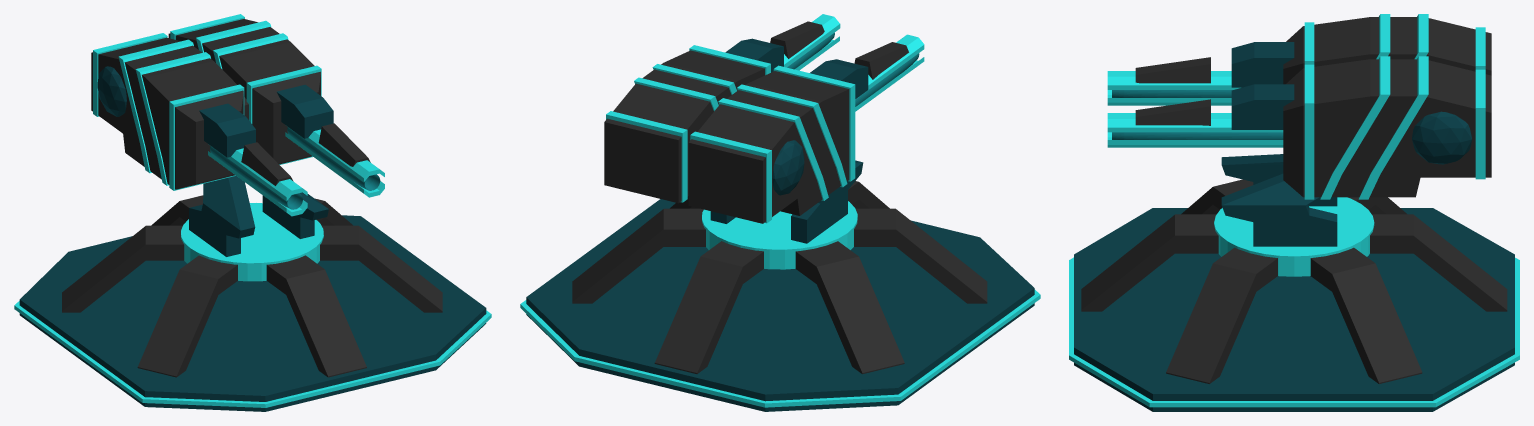
File: Turm 27.fbx
3 views of the same model, side by side, from view 1: azimuth 30°, elevation 25°; view 2: azimuth 150°, elevation 25°; view 3: azimuth 270°, elevation 25° (orthographic). The views are drawn at different scales.
Visible parts, largest first — view 1: Cube.002, Plane; view 2: Cube.002, Plane; view 3: Cube.002, Plane.
Boxes of the visible parts, x1,y1,x2,y2 form: Cube.002: (14, 195, 491, 411); Plane: (91, 14, 384, 281); Cube.002: (520, 181, 1040, 411); Plane: (604, 14, 924, 269); Cube.002: (1069, 179, 1519, 411); Plane: (1107, 14, 1491, 276).
Bounding box in the file's own units: 450 × 291 × 450.
